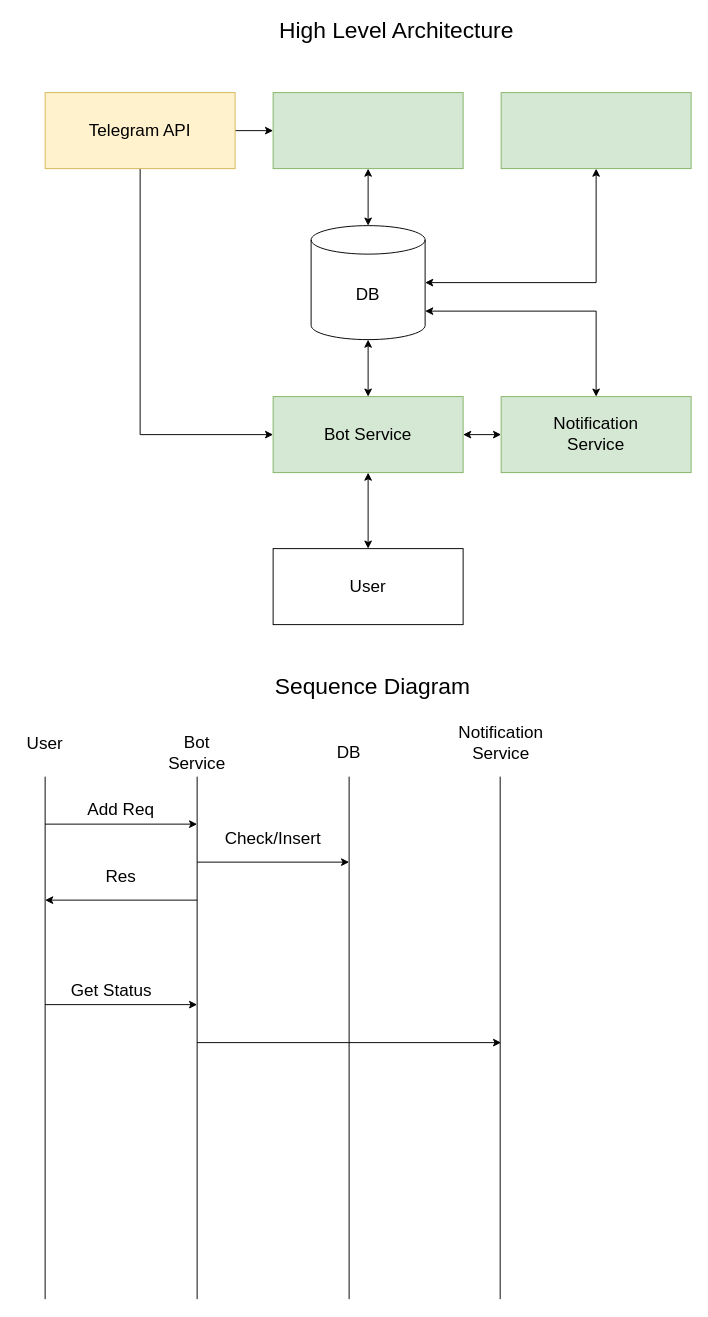
Image size: 708x1317. Some labels were removed from this diagram. The centre of each missing label's shape, as x and y in pixels:
"Analytic Service" belongs at (595,130).
"Data Scanning Service" belongs at (367,130).
